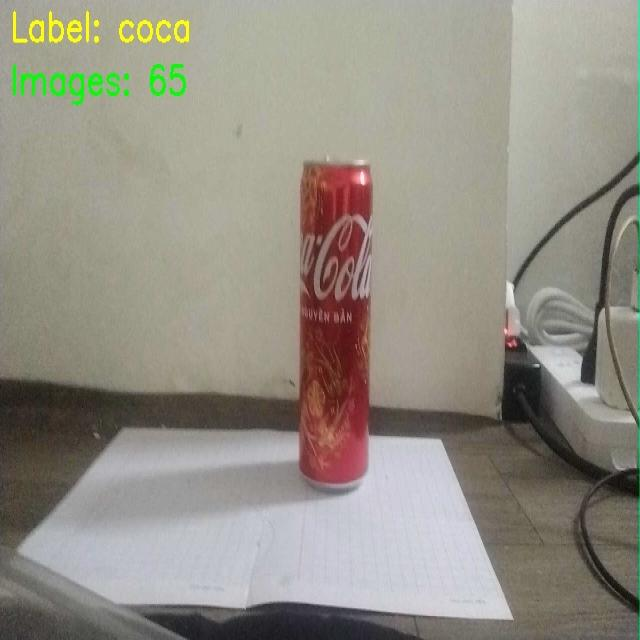Coca: (264, 119, 409, 521)
